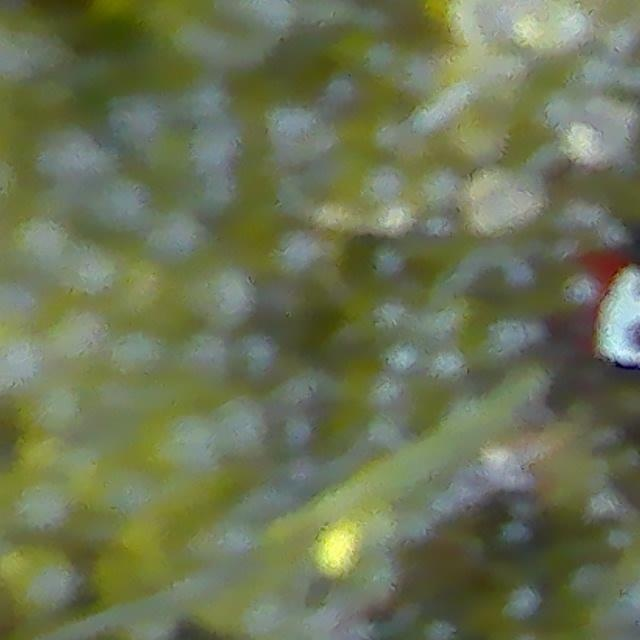SeaGrape: (1, 540, 77, 620), (31, 120, 108, 188), (184, 260, 254, 330), (2, 212, 75, 279), (84, 170, 154, 237), (561, 99, 624, 168), (458, 166, 521, 235), (511, 0, 581, 58), (144, 207, 207, 270)
